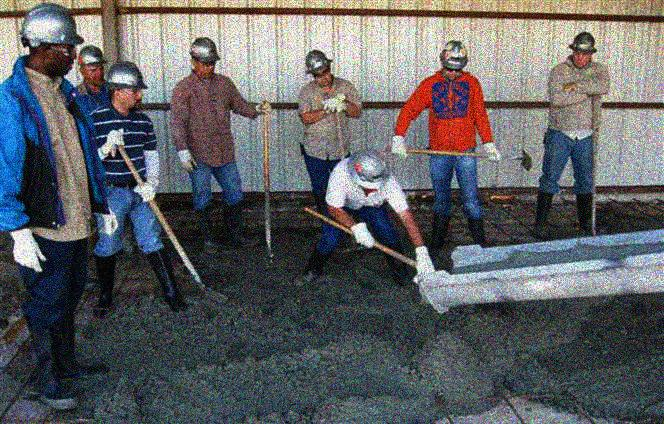helmet: (18, 3, 84, 79), (97, 61, 149, 111), (345, 145, 390, 192), (187, 36, 222, 80), (436, 39, 469, 81), (77, 43, 108, 87), (302, 48, 336, 88), (566, 31, 599, 69)
